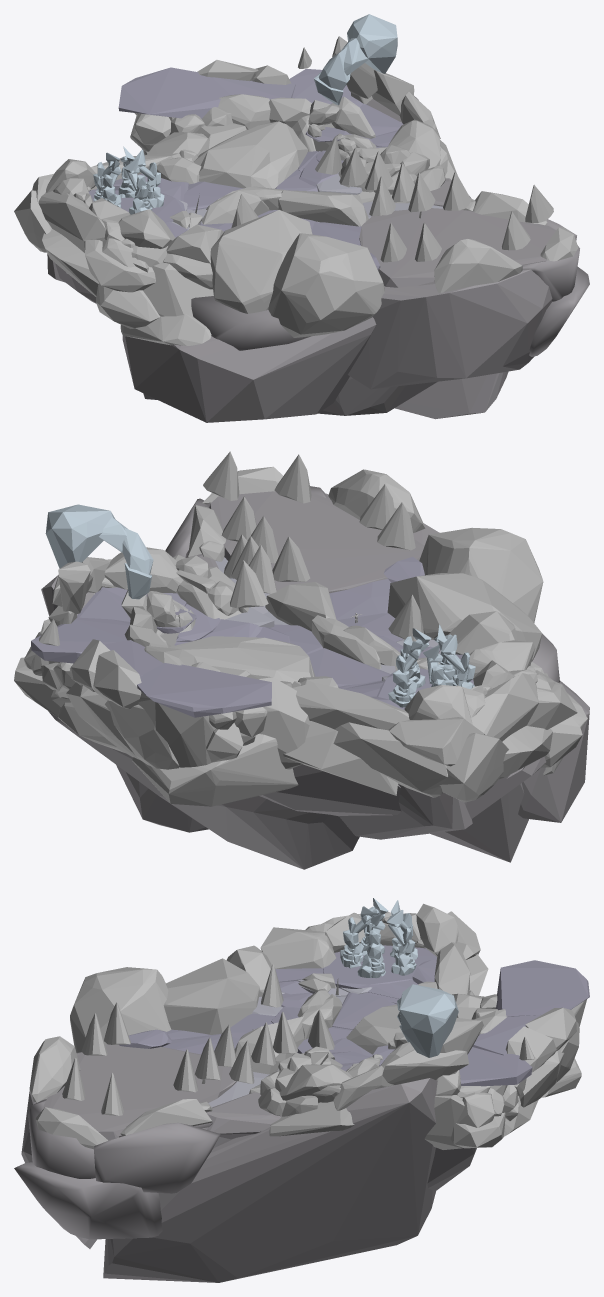
Rendered from Final_World_PathJoined.fbx.
3 views of the same model, one above another, from view 1: azimuth 30°, elevation 25°; view 2: azimuth 150°, elevation 25°; view 3: azimuth 270°, elevation 25° (orthographic). The views are drawn at different scales.
Parts seen in each view (by area): view 1: s.0819, s.0820, s.1672, s.1732, s.0807, s.1731, s.1737, s.0818, s.1059, s.1701, s.1694, s.0817 (+46 smaller); view 2: s.1672, s.0807, s.0822, s.1732, s.1667, s.1731, s.0805, s.1737, s.0984, s.0806, s.0820, s.0530 (+57 smaller); view 3: s.0818, s.1672, s.0807, s.1031, s.0811, s.1732, s.1731, s.0605, s.0812, s.1734, s.1701, s.1033 (+46 smaller).
Part boxes in pixels (x1,y1,x2,y2): s.0819: [348, 269, 552, 389]; s.0820: [122, 317, 376, 422]; s.1672: [89, 67, 403, 245]; s.1732: [268, 233, 384, 337]; s.0807: [359, 208, 555, 287]; s.1731: [210, 210, 312, 313]; s.1737: [194, 121, 307, 188]; s.0818: [366, 96, 508, 419]; s.1059: [191, 296, 310, 350]; s.1701: [434, 239, 522, 292]; s.1694: [278, 190, 368, 226]; s.0817: [143, 376, 437, 415]; s.1672: [31, 579, 474, 717]; s.0807: [209, 491, 424, 593]; s.0822: [48, 711, 359, 869]; s.1732: [419, 527, 543, 622]; s.1667: [132, 734, 298, 806]; s.1731: [387, 573, 542, 661]; s.0805: [259, 764, 524, 816]; s.1737: [167, 636, 315, 683]; s.0984: [333, 722, 448, 797]; s.0806: [339, 784, 472, 839]; s.0820: [518, 680, 589, 822]; s.0530: [292, 682, 409, 730]; s.0818: [103, 1078, 437, 1282]; s.1672: [163, 945, 589, 1086]; s.0807: [41, 1044, 236, 1140]; s.1031: [14, 1162, 162, 1239]; s.0811: [94, 1122, 220, 1193]; s.1732: [70, 967, 171, 1052]; s.1731: [163, 958, 259, 1034]; s.0605: [399, 984, 458, 1057]; s.0812: [28, 1099, 95, 1178]; s.1734: [260, 927, 336, 968]; s.1701: [29, 1036, 80, 1102]; s.1033: [206, 1092, 281, 1139].
Size of the model in its own units: 6687 by 4659 by 7440.
